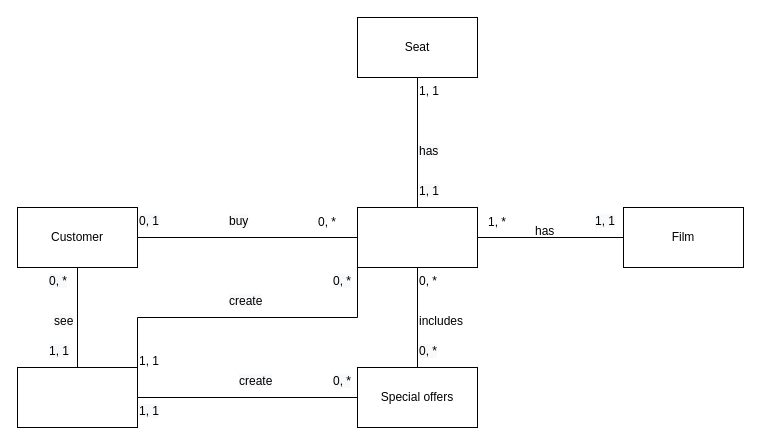
This 761x445 diagram has some shape labels left out. The box of each missing label's shape, as (x1, y1, x2, y2) in pixels:
Admin: (16, 366, 138, 428)
Ticket: (356, 206, 478, 268)
